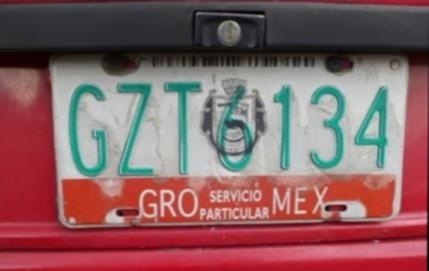License_Plate: (40, 38, 411, 229)
